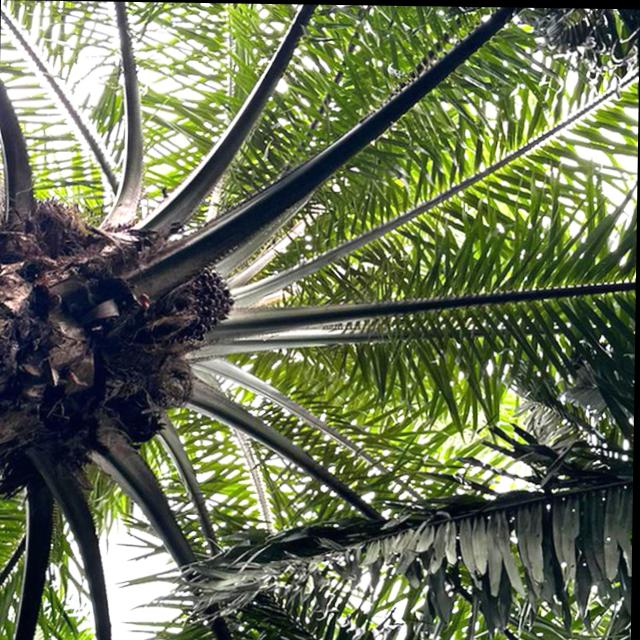ripe: (164, 263, 248, 345)
